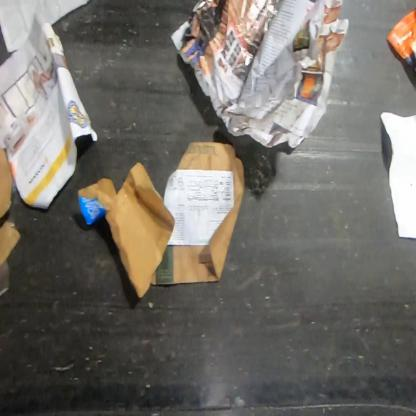cardboard: (76, 160, 175, 300), (0, 147, 15, 221), (0, 220, 22, 270)
